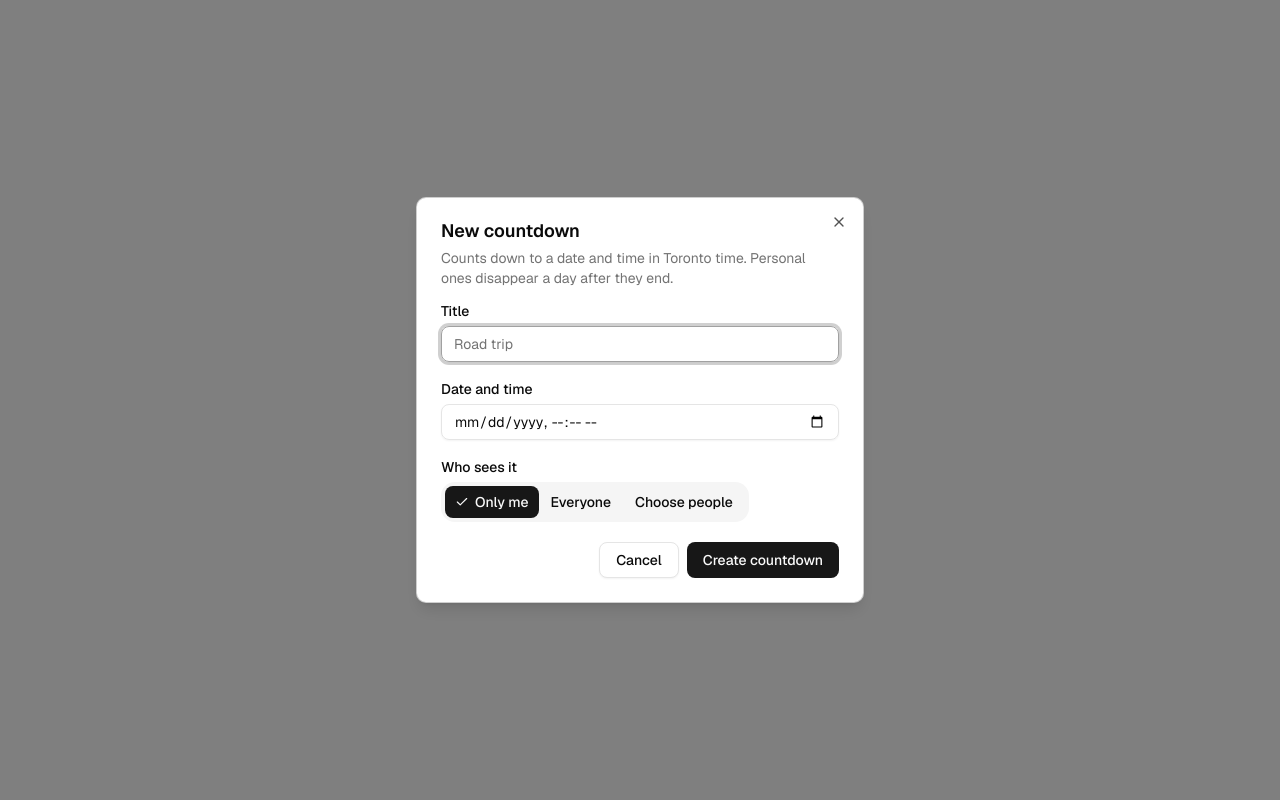
Test: CountdownDialog › lets an admin pick who sees it and choose people one by one
Later steps or results of the test are not shown.
Expected: the element named "Who sees it" is shown, [441, 482, 749, 522]
Expected: the text "Personal ones disappear a day after they end" is shown, [441, 249, 806, 287]
What coordinates should you click on to do the following:
click the button "Choose people"
I would click on:
 (684, 502)
Its box is [623, 486, 745, 518].
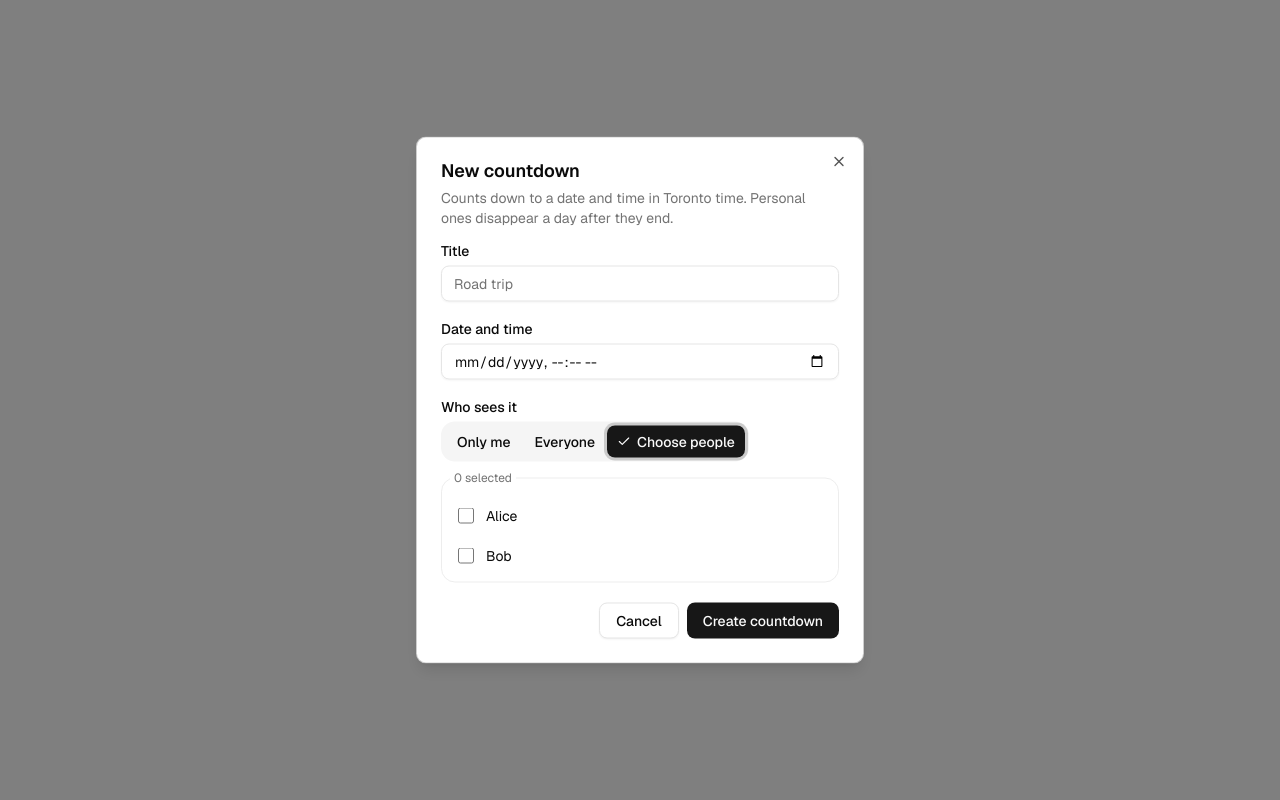
Now the text "0 selected" is shown, box [450, 470, 516, 486]
What coordinates should you click on to do the following:
click the checkbox labelled "Alice"
I would click on:
 (466, 516)
Its box is [458, 508, 474, 524].
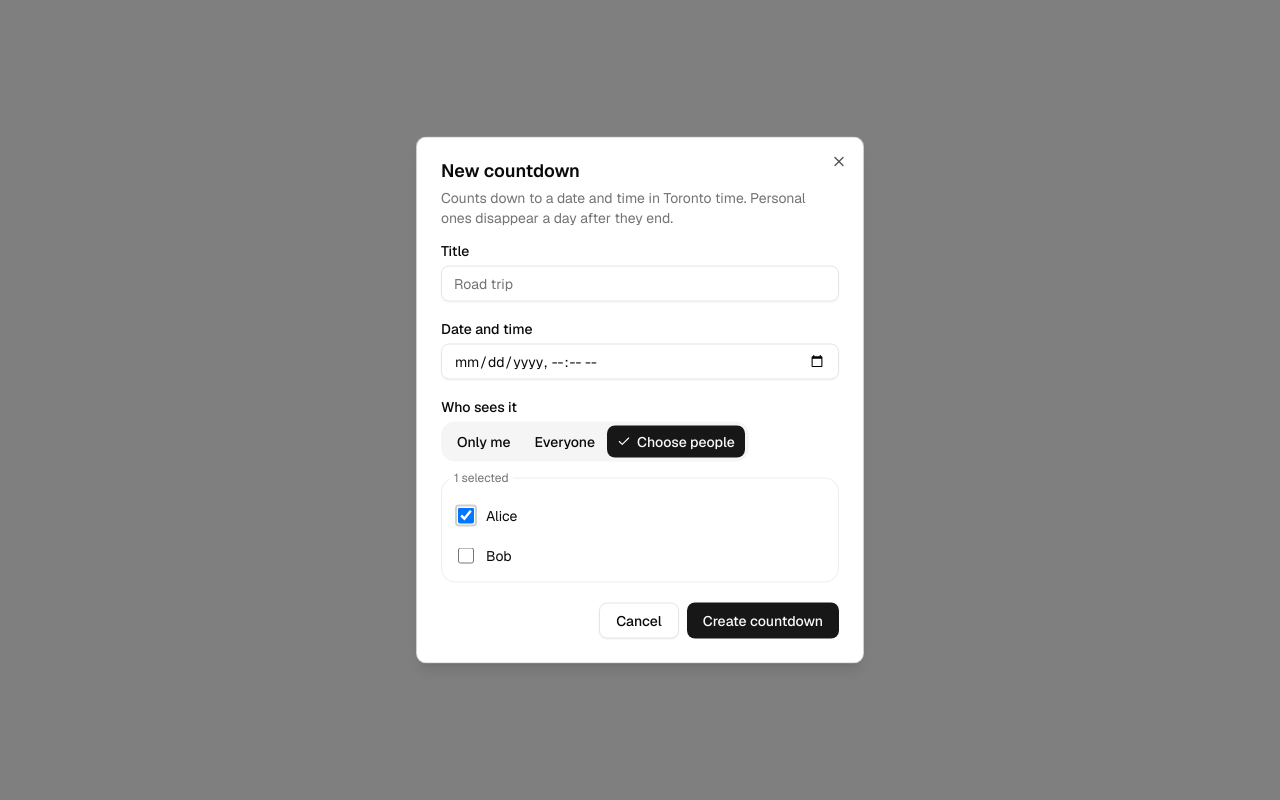
What coordinates should you click on to do the following:
click the checkbox labelled "Bob"
I would click on:
 (466, 556)
Its box is [458, 548, 474, 564].
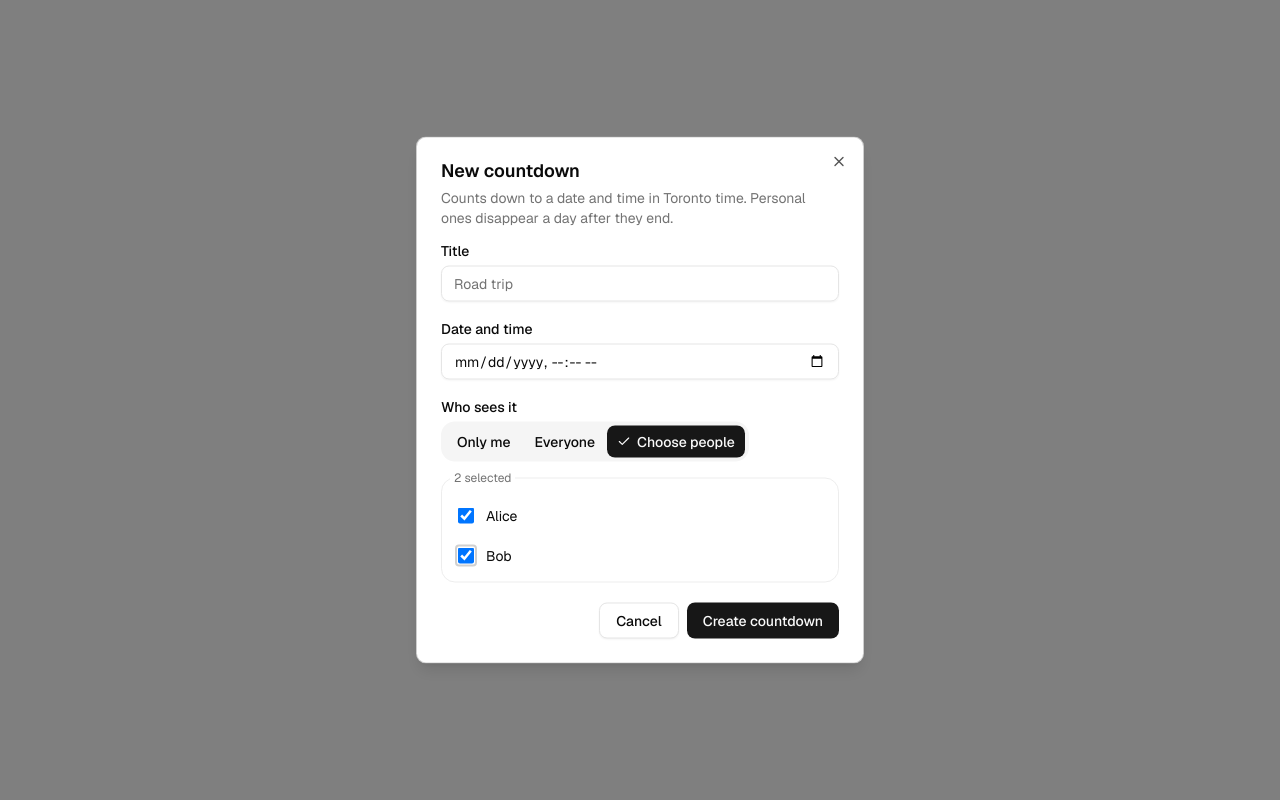
Now the text "2 selected" is shown, box [450, 470, 515, 486]
